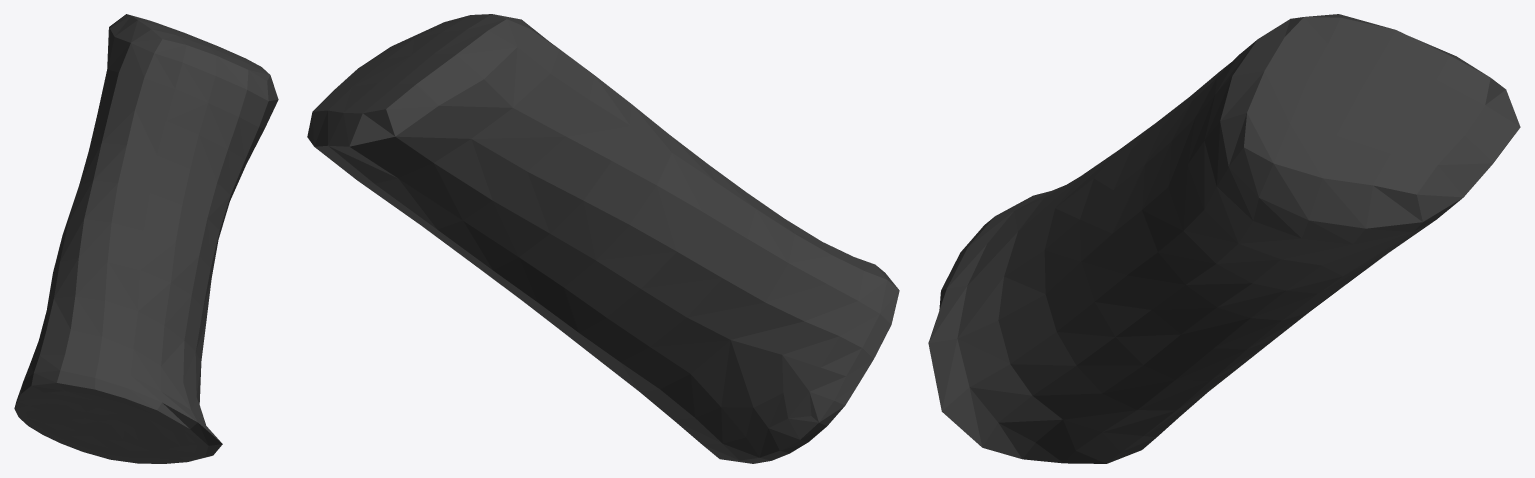
File: L_sided_L_SUBCLAVIAN_ARTERY.glb
The picture shows the model from 3 angles, left to right: view 1: azimuth 30°, elevation 25°; view 2: azimuth 150°, elevation 25°; view 3: azimuth 270°, elevation 25°; orthographic projection. The views are drawn at different scales.
Visible parts, largest first — view 1: L_sided_L_SUBCLAVIAN_ARTERY; view 2: L_sided_L_SUBCLAVIAN_ARTERY; view 3: L_sided_L_SUBCLAVIAN_ARTERY.
Boxes of the visible parts, x1,y1,x2,y2 form: L_sided_L_SUBCLAVIAN_ARTERY: [14, 14, 278, 463]; L_sided_L_SUBCLAVIAN_ARTERY: [307, 14, 899, 463]; L_sided_L_SUBCLAVIAN_ARTERY: [928, 14, 1520, 463].
Size of the model in its own units: 1.76 by 1.79 by 1.88.
Materials: 1 (1 with a texture image).
